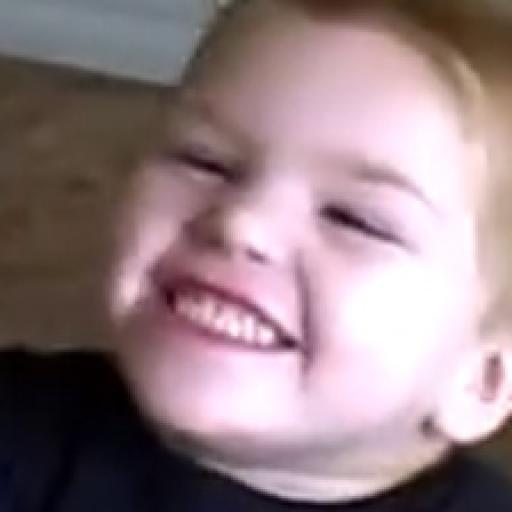Autism: (114, 24, 512, 508)
